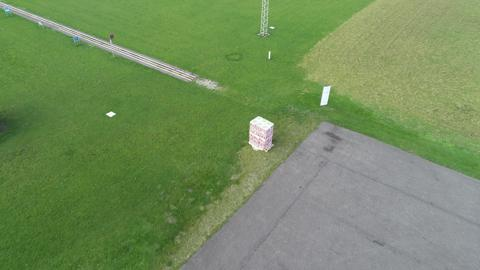RockwoolPallet: (249, 115, 275, 152)
